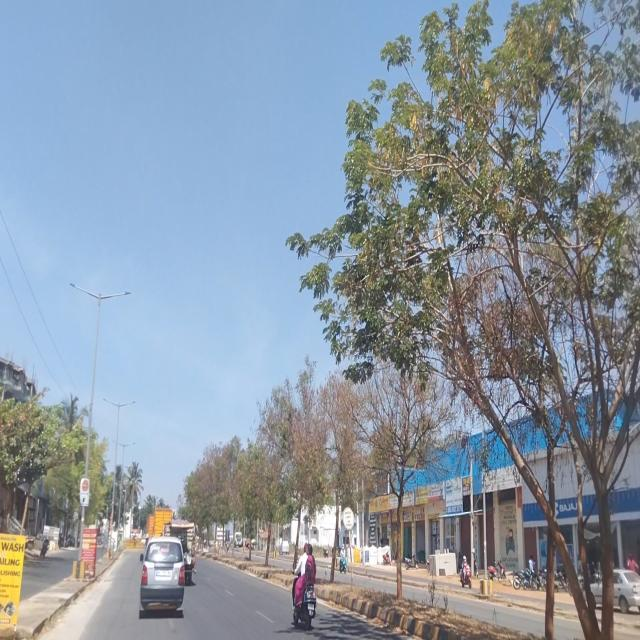bien_cam: (342, 507, 355, 530)
